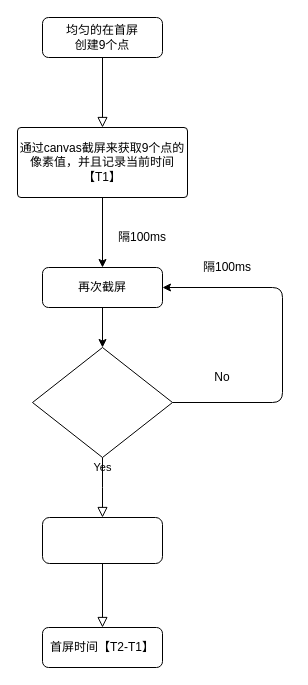
Image size: 308x685. Some labels were removed from this diagram. Here are the shapes that lost their labels. From the top down, the box of each, then its label:
(32, 346, 172, 458): 是否与上一次截屏像素点值一样？
(42, 516, 162, 564): 得到当前的时间点【T2】
